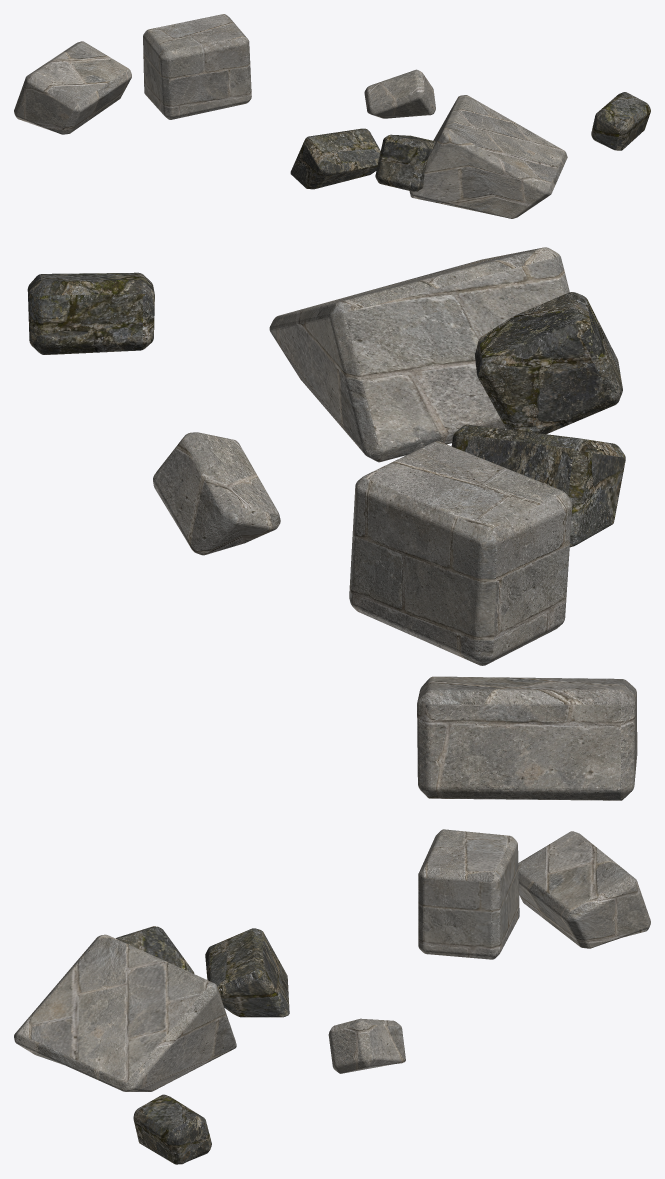
File: scattered-blocks-v01.glb
3 views of the same model, one above another, from view 1: azimuth 30°, elevation 25°; view 2: azimuth 150°, elevation 25°; view 3: azimuth 270°, elevation 25° (orthographic). The views are drawn at different scales.
Parts seen in each view (by area): view 1: scattered-blocks; view 2: scattered-blocks; view 3: scattered-blocks.
Part boxes in pixels (x1,y1,x2,y2): scattered-blocks: (14,14,650,218); scattered-blocks: (27,247,637,800); scattered-blocks: (14,829,650,1164).
Bounding box in the file's own units: 2.84 × 0.5494 × 2.7.
2 materials, 2 textured.
